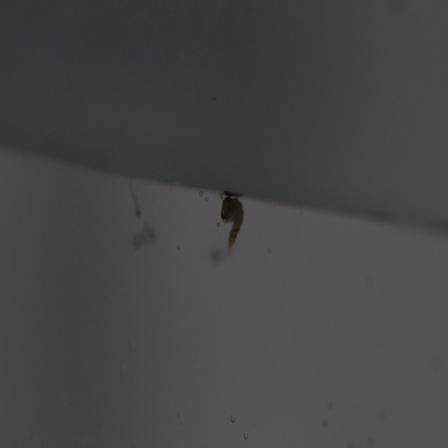Jentik-Nyamuk: (214, 189, 247, 252)
